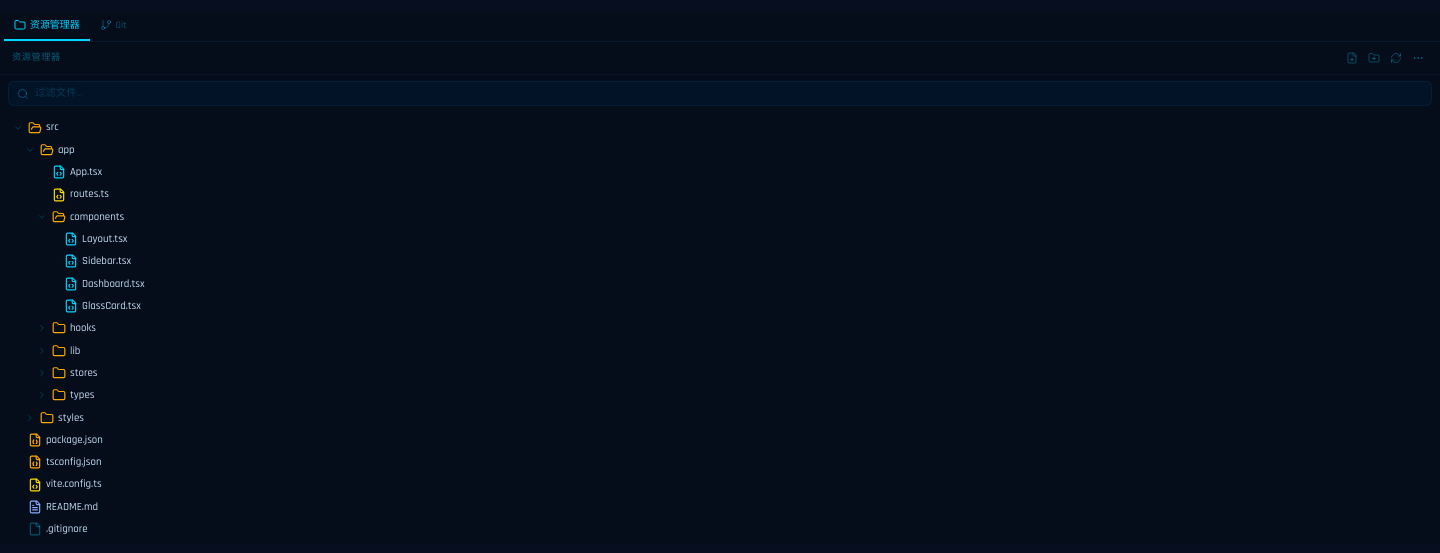
FileExplorer › 右键菜单 › 文件右键显示 重命名/复制路径/删除
Right-click the text "App.tsx" at (86, 172), box left=70, top=165, right=102, bottom=179
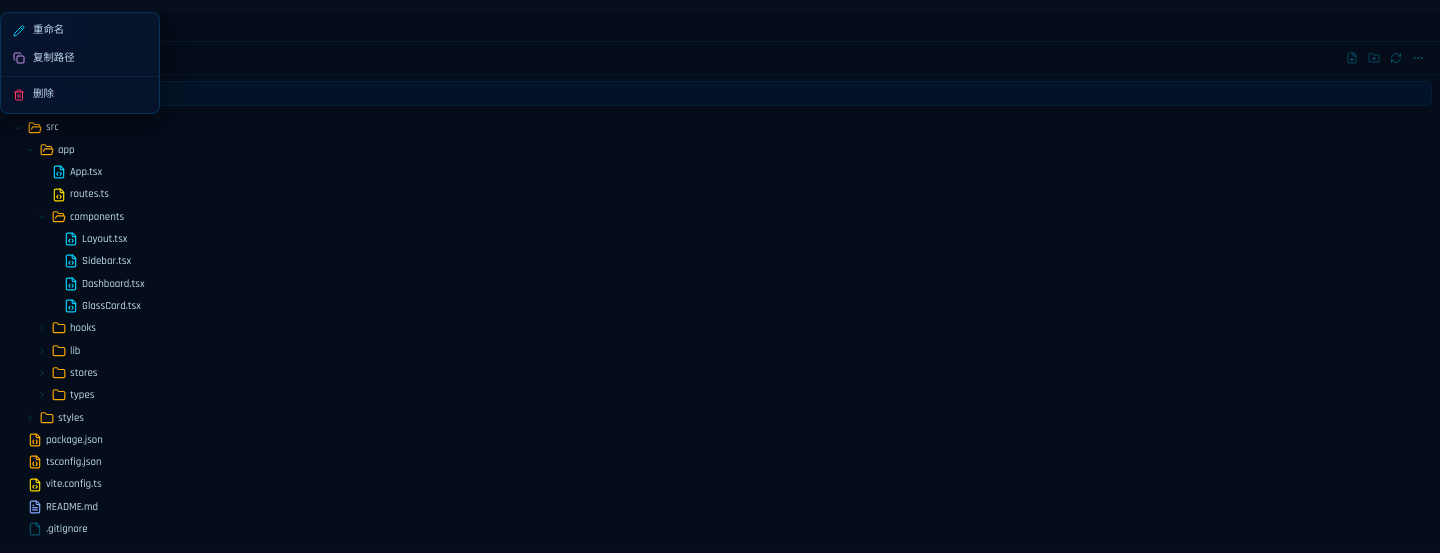
Result: the text "重命名" is shown at left=33, top=23, right=64, bottom=39
Result: the text "复制路径" is shown at left=33, top=51, right=75, bottom=66
Result: the text "删除" is shown at left=33, top=87, right=54, bottom=103
